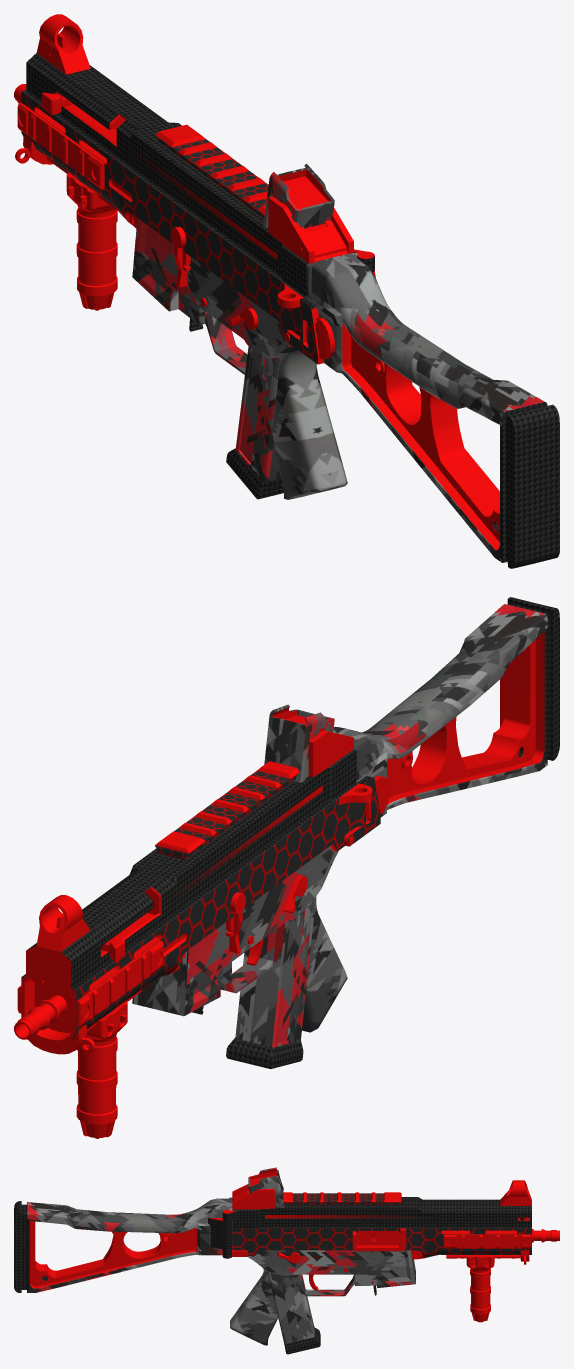
Rendered from ump_aggressor.glb.
3 views of the same model, one above another, from view 1: azimuth 30°, elevation 25°; view 2: azimuth 150°, elevation 25°; view 3: azimuth 270°, elevation 25° (orthographic). The views are drawn at different scales.
Parts seen in each view (by area): view 1: AggressorBody, AggressorMagazine; view 2: AggressorBody, AggressorMagazine; view 3: AggressorBody, AggressorMagazine.
Part boxes in pixels (left/top/right/bottom): AggressorBody: left=14, top=14, right=559, bottom=568; AggressorMagazine: left=226, top=164, right=334, bottom=499; AggressorBody: left=14, top=597, right=559, bottom=1138; AggressorMagazine: left=226, top=704, right=334, bottom=1068; AggressorBody: left=14, top=1180, right=559, bottom=1345; AggressorMagazine: left=248, top=1167, right=320, bottom=1354.
Bounding box in the file's own units: 0.0863 × 0.3266 × 0.9115.
Materials: 1 (1 with a texture image).
